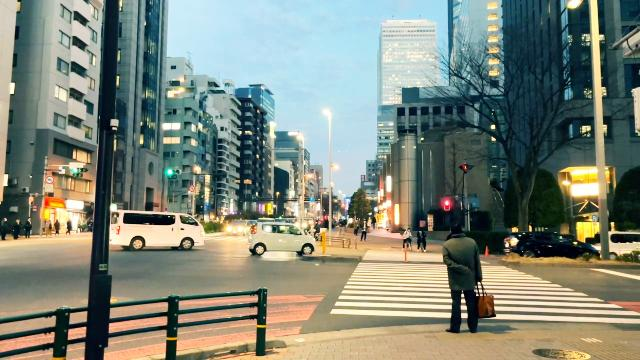berdiri: (438, 221, 497, 337)
